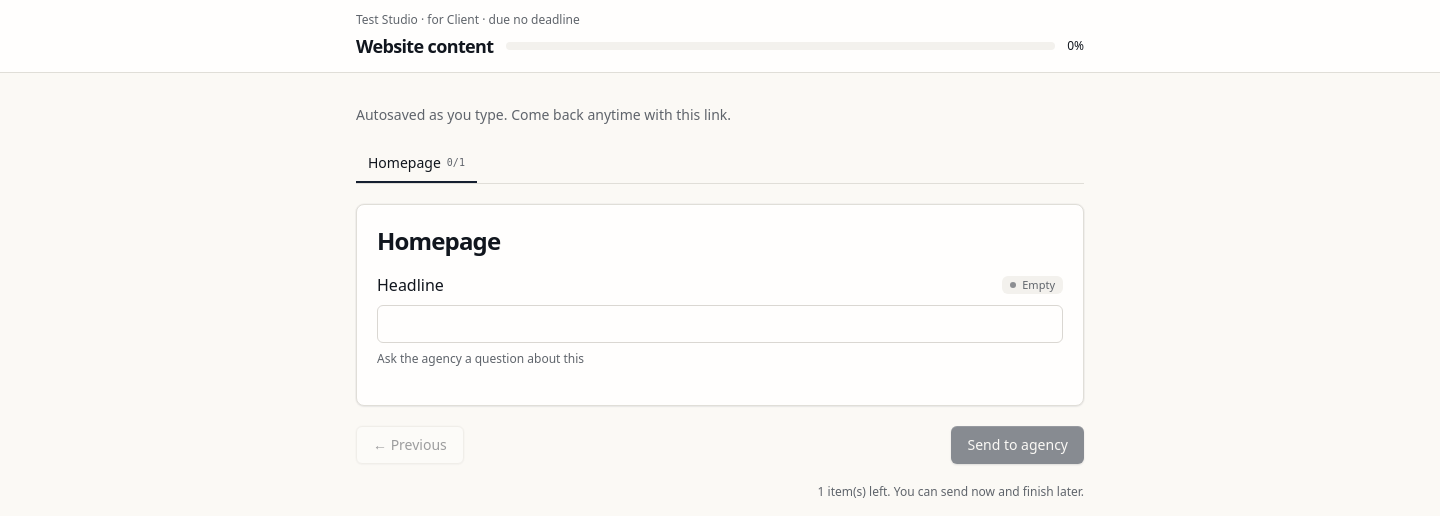
Test: Portal text autosave › refreshes saved progress and enables sending without a page reload
Expected: the text "0%" is shown, [1067,38,1084,54]
Expected: the button "Send to agency" is disabled, [952,426,1084,464]
Type "Ready to publish" into the field labelled "Headline" at {"x": 720, "y": 324}, box [377,305,1063,343]
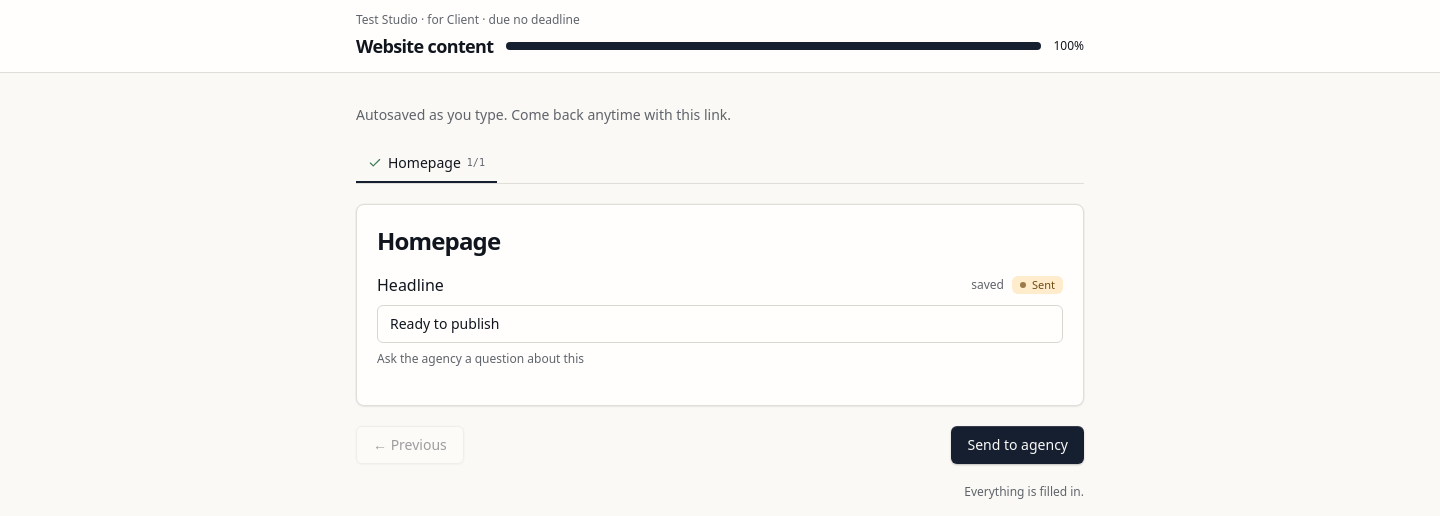
Now the text "100%" is shown, box [1053,38,1084,54]
Now the button "Send to agency" is enabled, box [952,426,1084,464]
